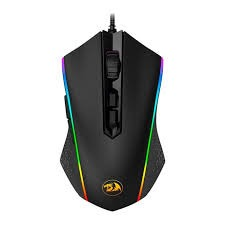mouse: (51, 19, 173, 211)
